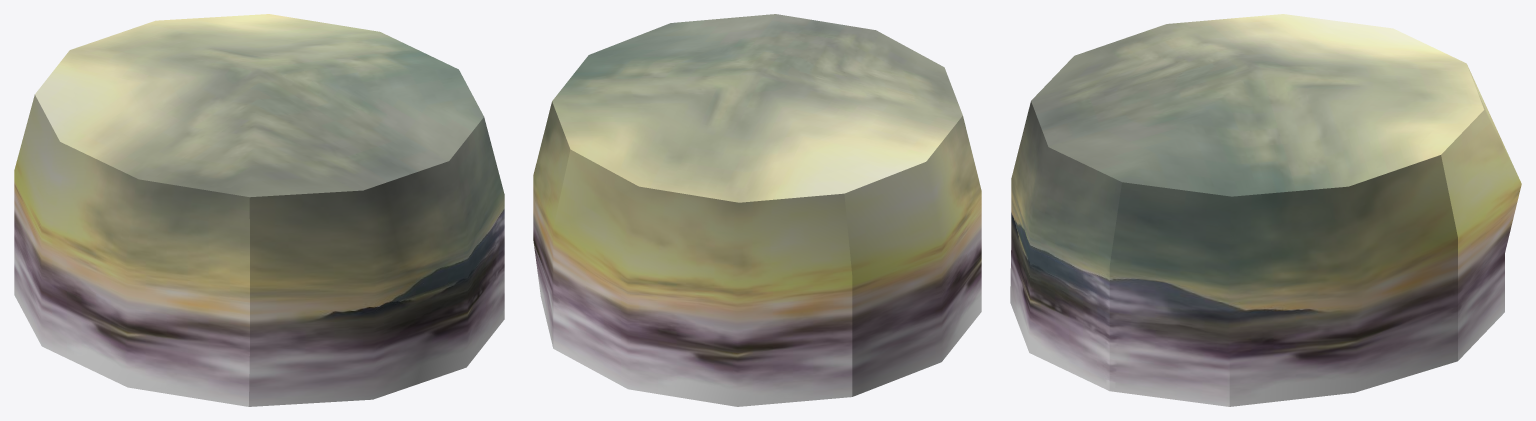
The model's file is gsctk.obj.
3 views of the same model, side by side, from view 1: azimuth 30°, elevation 25°; view 2: azimuth 150°, elevation 25°; view 3: azimuth 270°, elevation 25° (orthographic). The views are drawn at different scales.
Visible parts, largest first — view 1: gsctk; view 2: gsctk; view 3: gsctk.
Boxes of the visible parts, x1,y1,x2,y2 form: gsctk: (14, 14, 504, 406); gsctk: (533, 14, 981, 406); gsctk: (1010, 14, 1521, 406).
Bounding box in the file's own units: 7980 × 4442 × 8651.
